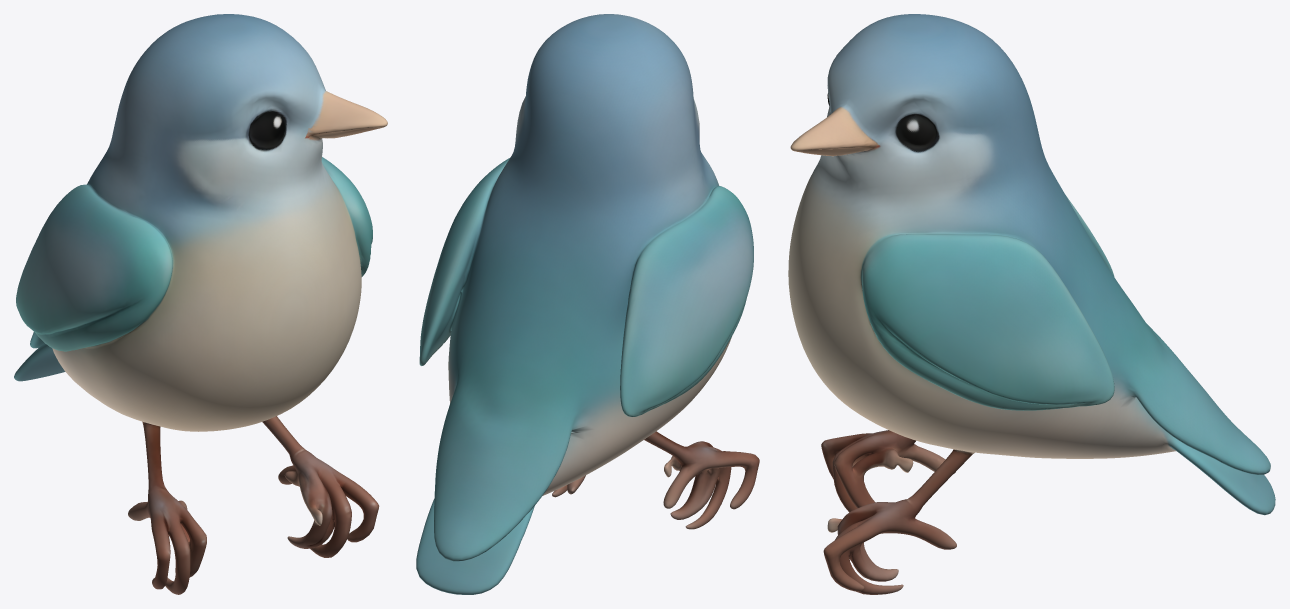
File: bird-regrip-source.glb
The picture shows the model from 3 angles, left to right: view 1: azimuth 30°, elevation 25°; view 2: azimuth 150°, elevation 25°; view 3: azimuth 270°, elevation 25°; orthographic projection. The views are drawn at different scales.
Parts seen in each view (by area): view 1: model; view 2: model; view 3: model.
Boxes of the visible parts, x1,y1,x2,y2 form: model: (14, 14, 387, 594); model: (416, 14, 759, 594); model: (788, 14, 1275, 594).
Bounding box in the file's own units: 1.09 × 1.9 × 1.57.
Materials: 1 (1 with a texture image).
